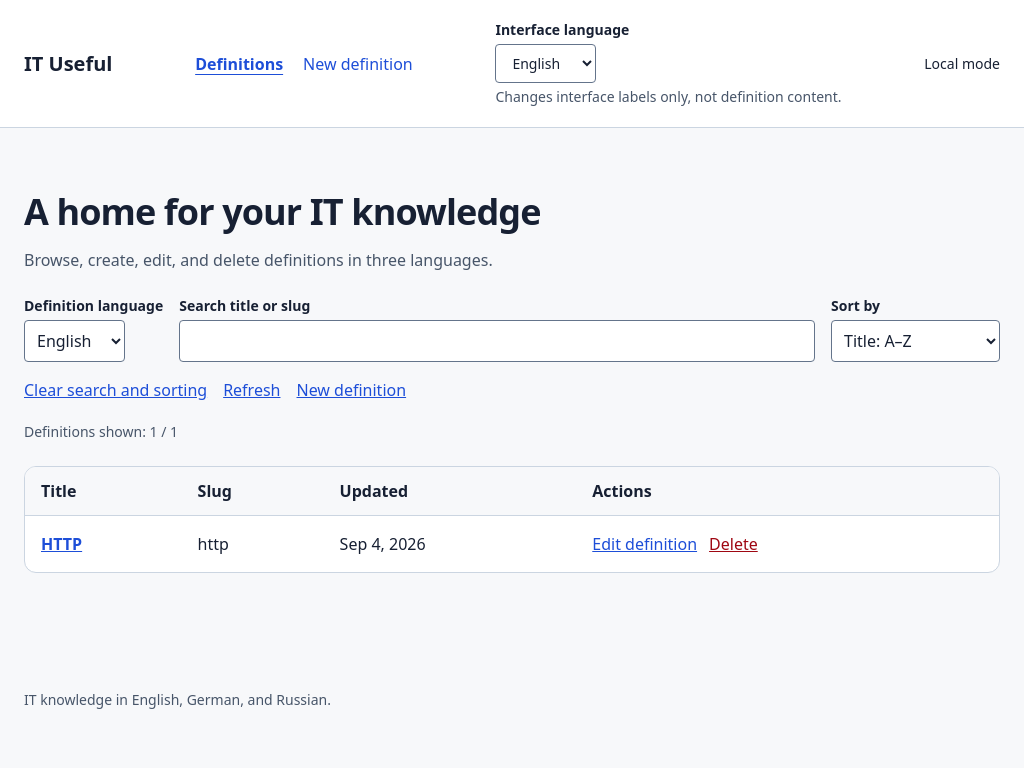
Test: delete confirmation cancels without writing and removes the confirmed record
Click the button with aria-label "Delete: HTTP": (733, 544) [709, 532, 758, 556]
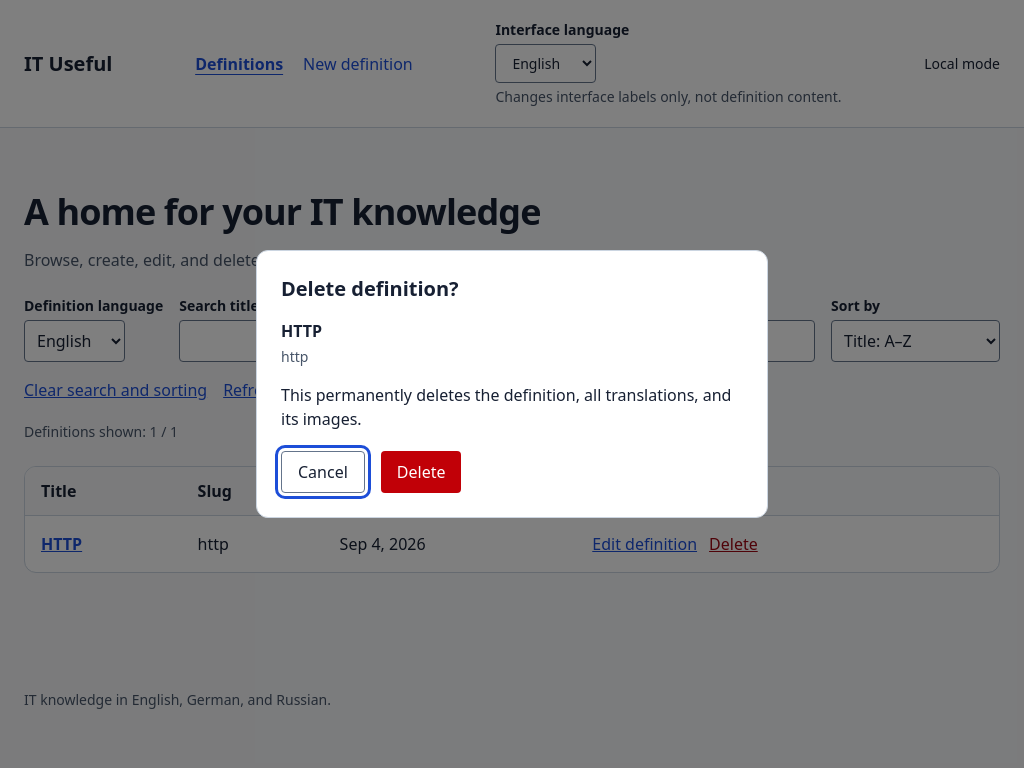
Click the button "Cancel": (323, 472) [281, 451, 365, 493]
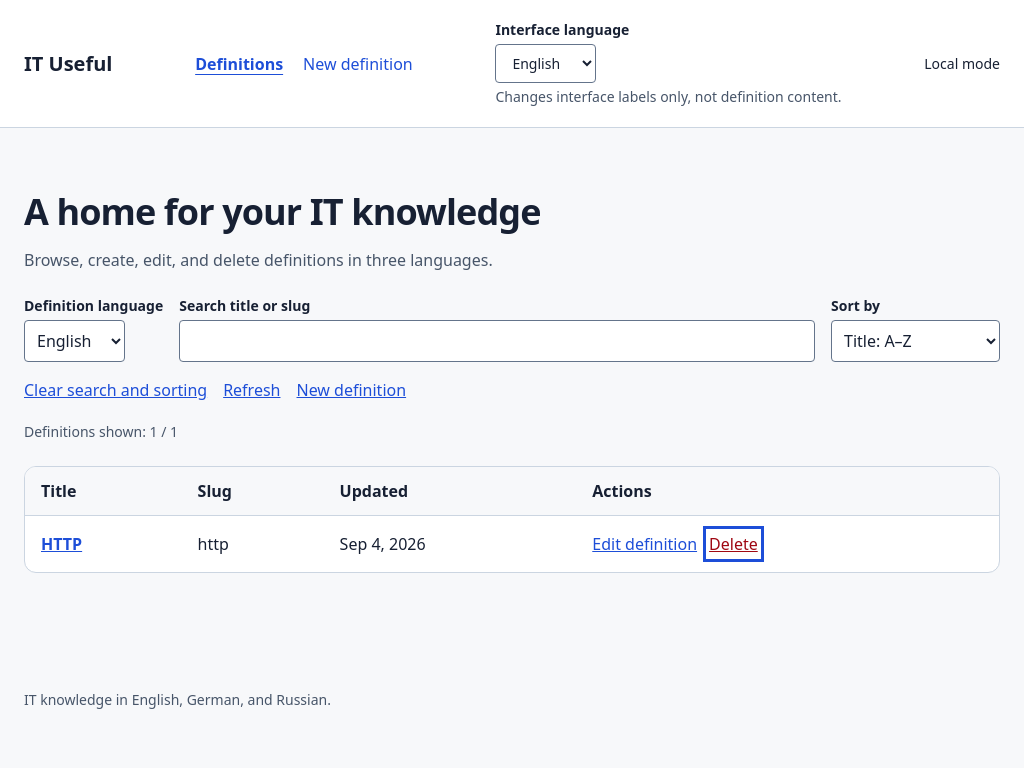
Expected: the dialog is gone
Click the button with aria-label "Delete: HTTP": (733, 544) [709, 532, 758, 556]
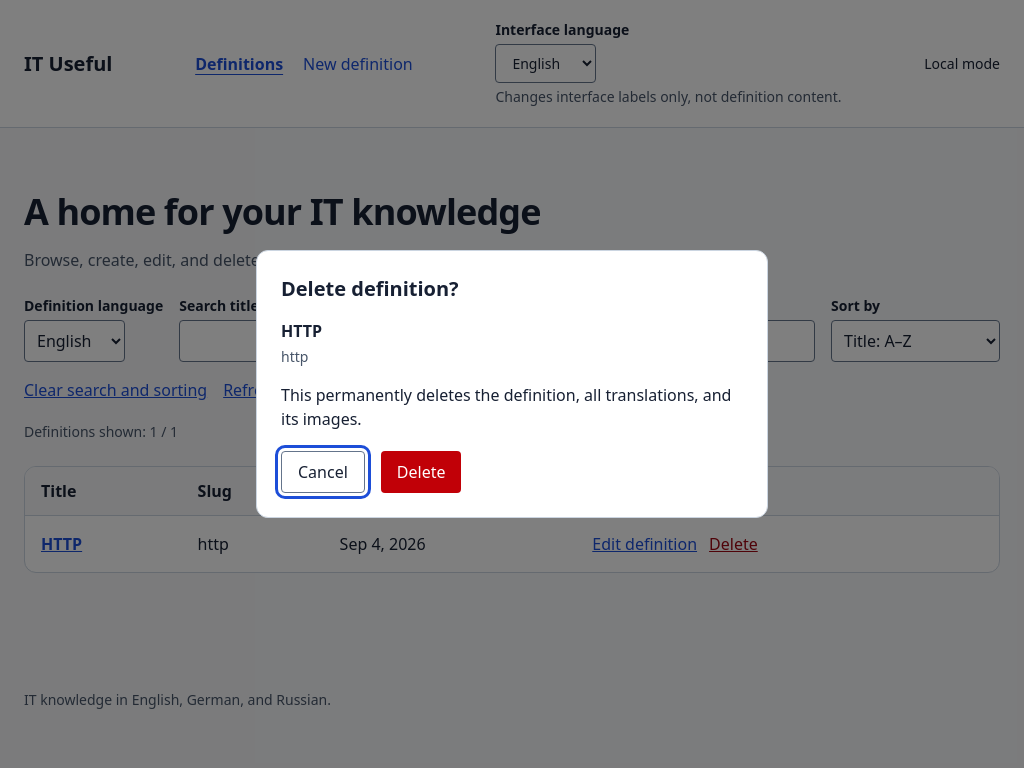
Click the button "Delete": (421, 472) [381, 451, 462, 493]
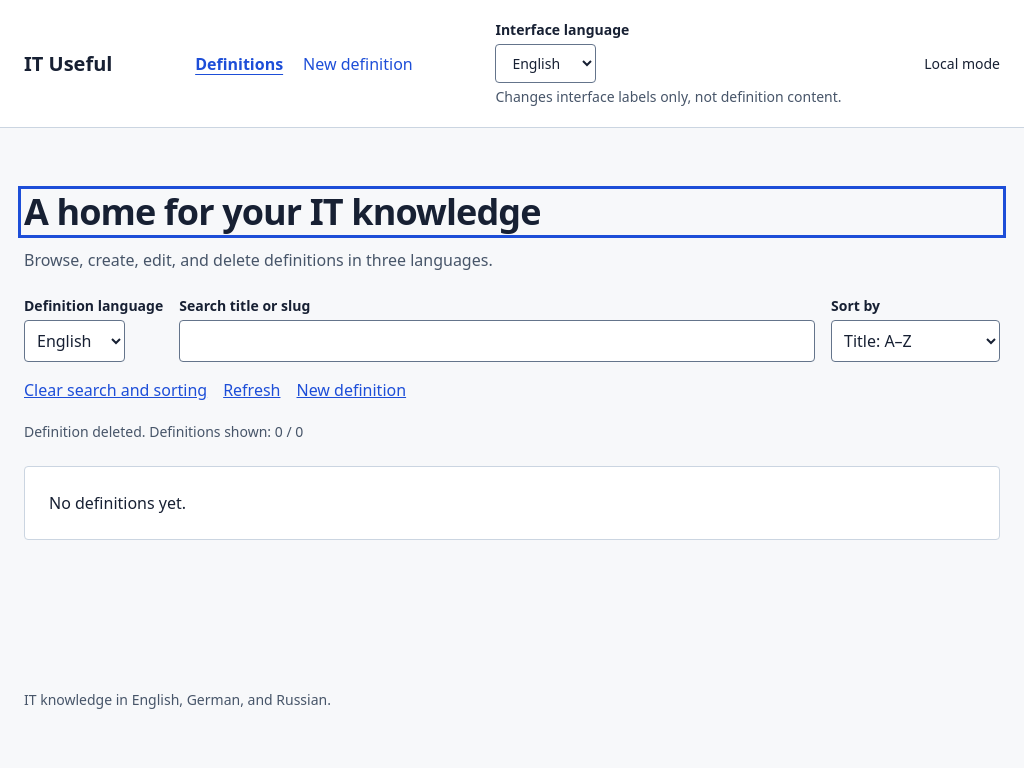
Expected: the table is gone
